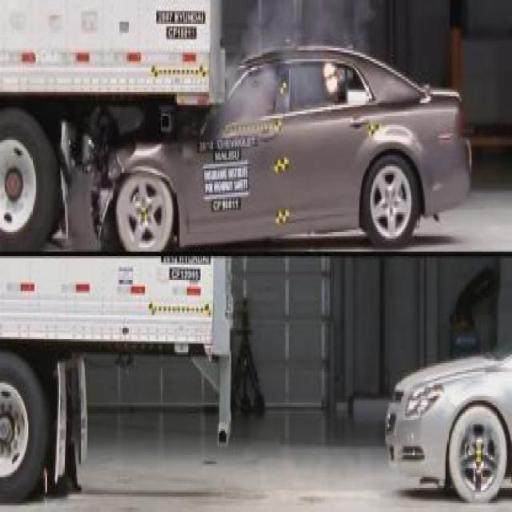小汽车: (0, 260, 254, 494), (389, 336, 512, 511)
小汽车撞小汽车: (2, 0, 478, 241)
